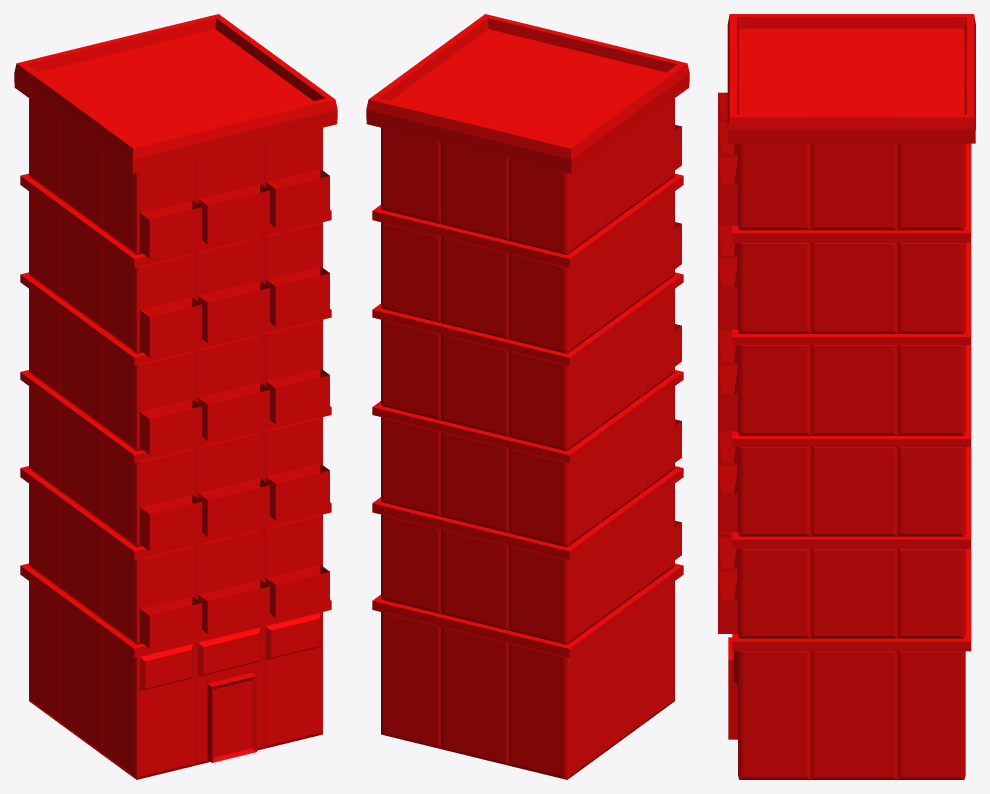
File: smallBuilding_M_v1_athena.fbx
3 views of the same model, side by side, from view 1: azimuth 30°, elevation 25°; view 2: azimuth 150°, elevation 25°; view 3: azimuth 270°, elevation 25° (orthographic). The views are drawn at different scales.
Visible parts, largest first — view 1: smallBuilding_M_v1_athena_low; view 2: smallBuilding_M_v1_athena_low; view 3: smallBuilding_M_v1_athena_low.
Boxes of the visible parts, x1,y1,x2,y2 form: smallBuilding_M_v1_athena_low: (14, 14, 337, 779); smallBuilding_M_v1_athena_low: (366, 14, 689, 779); smallBuilding_M_v1_athena_low: (718, 14, 975, 779).
Size of the model in its own units: 1102 by 3268 by 1145.
